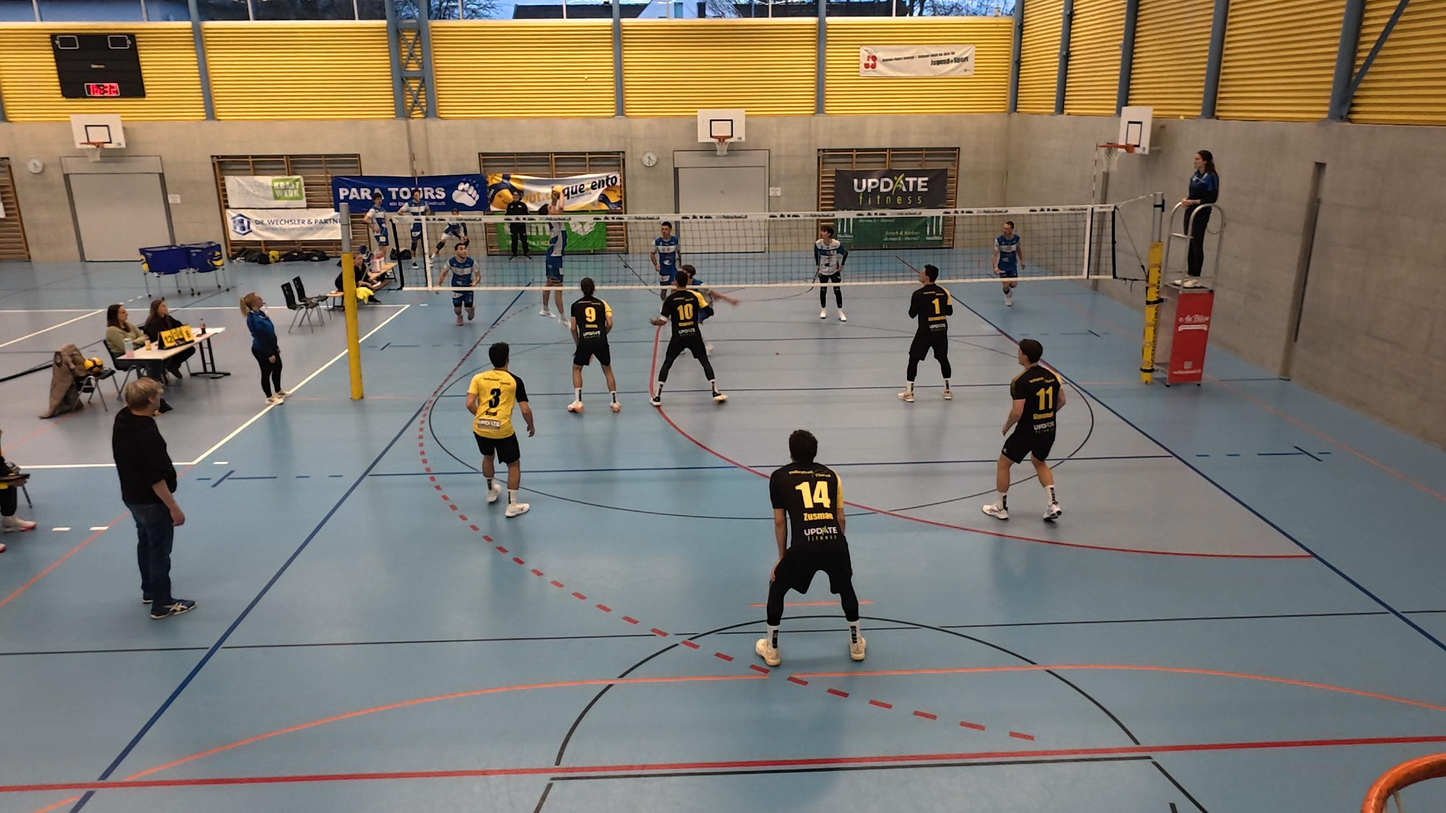alzata: (533, 182, 572, 327)
